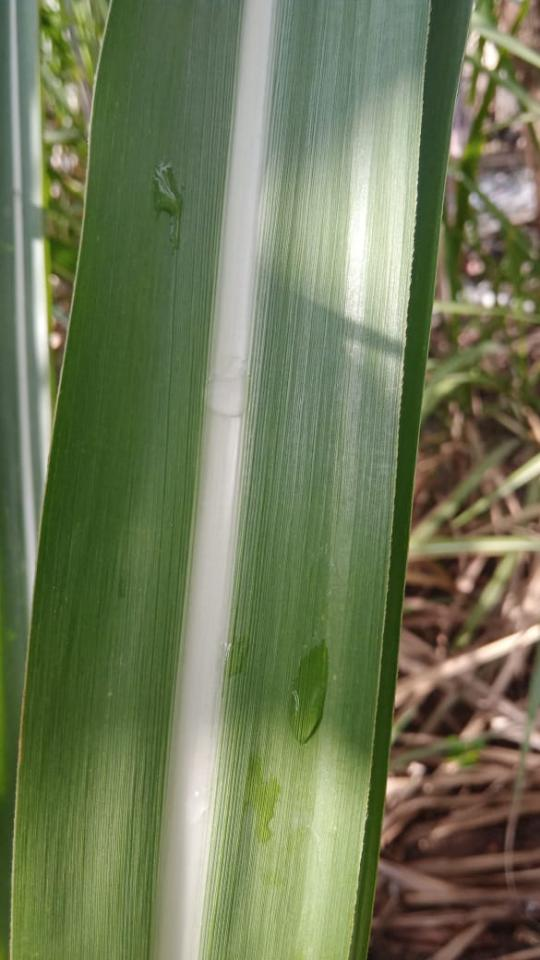Healthy: (9, 0, 472, 959)
